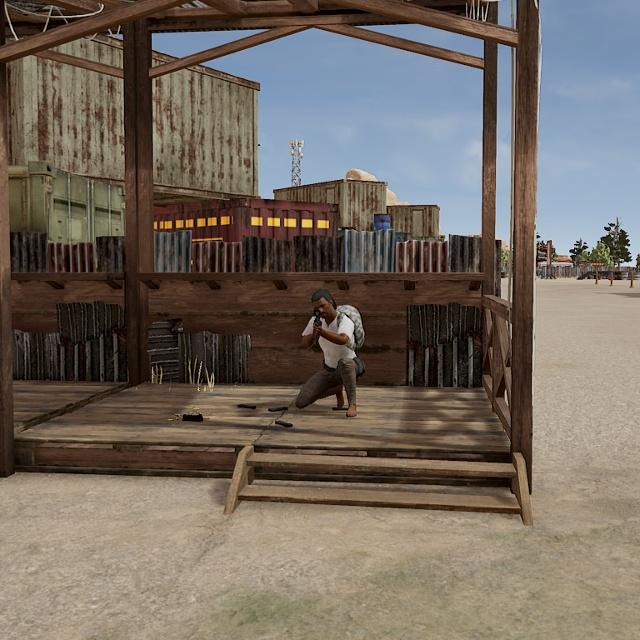head: (306, 285, 340, 322)
people: (290, 280, 367, 418)
